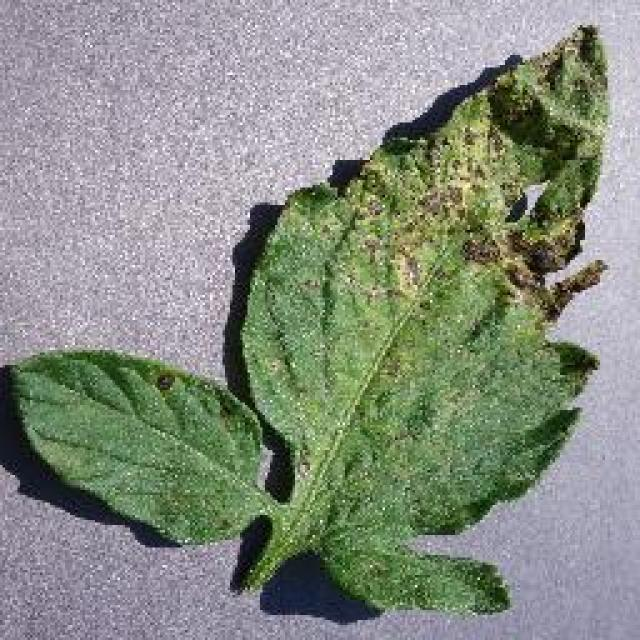Tomato target spot leaf: (248, 19, 612, 619), (12, 350, 270, 552)
